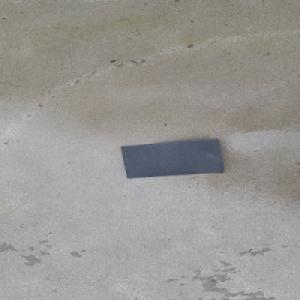PaintChip: (120, 138, 224, 178)
